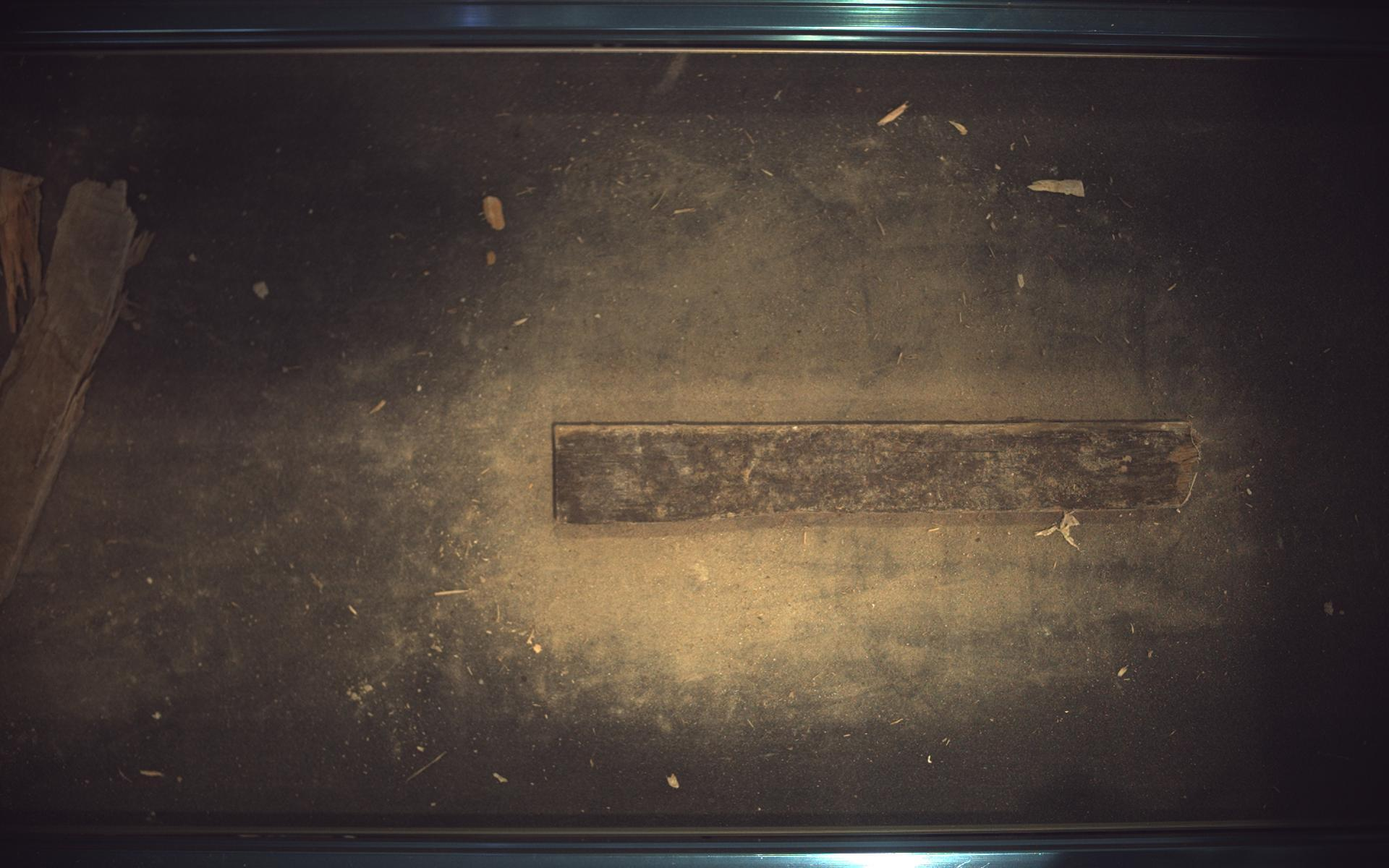wood: (548, 415, 1210, 529), (1, 179, 152, 601), (1, 167, 41, 333)
